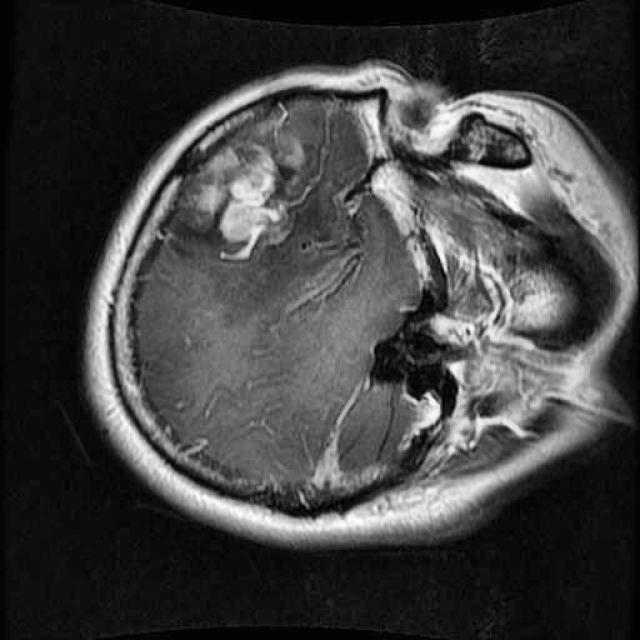Non-Tumor: (160, 105, 325, 272)
